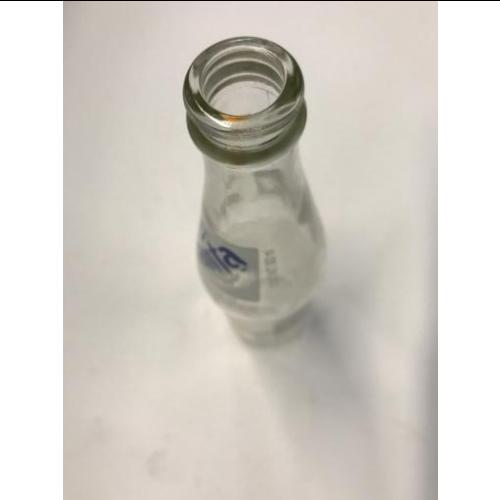glass: (187, 36, 325, 335)
